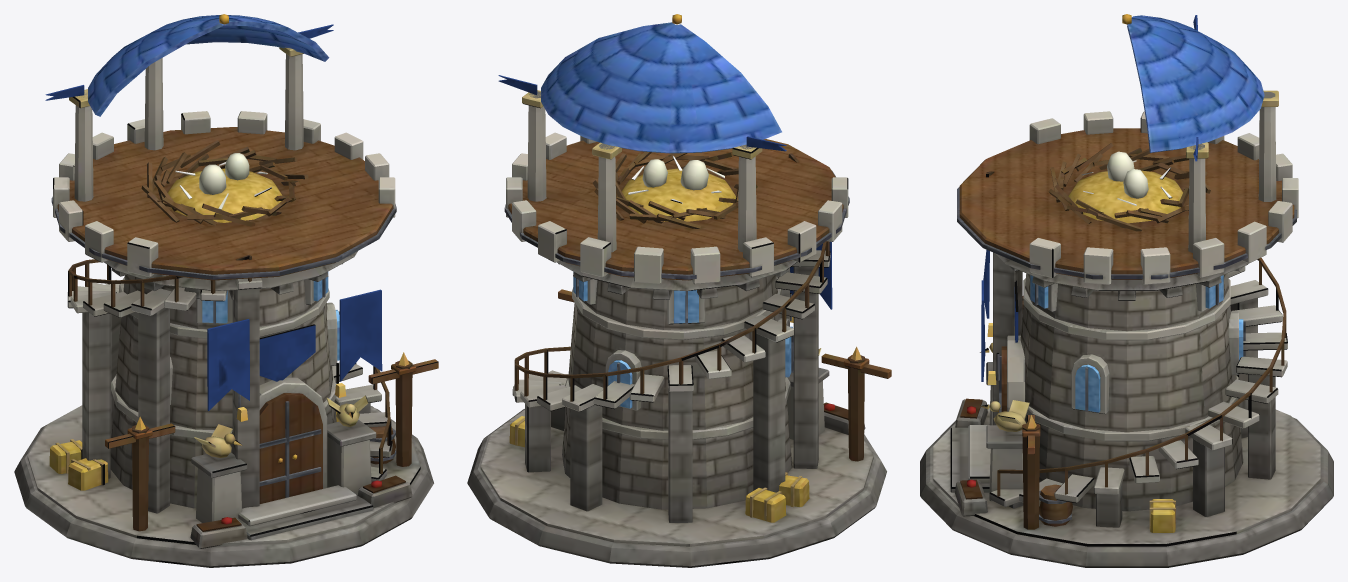
The model's file is aviary.glb.
The picture shows the model from 3 angles, left to right: view 1: azimuth 30°, elevation 25°; view 2: azimuth 150°, elevation 25°; view 3: azimuth 270°, elevation 25°; orthographic projection.
Visible parts, largest first — view 1: Static_Mesh, Anim_Banners; view 2: Static_Mesh, Anim_Banners; view 3: Static_Mesh, Anim_Banners.
Part boxes in pixels (x1,y1,x2,y2): Static_Mesh: (14, 14, 438, 567); Anim_Banners: (45, 24, 382, 410); Static_Mesh: (467, 14, 891, 567); Anim_Banners: (498, 75, 832, 309); Static_Mesh: (920, 14, 1333, 567); Anim_Banners: (981, 15, 1198, 381).
Size of the model in its own units: 6.92 by 8.62 by 6.92.
Materials: 2 (2 with a texture image).
